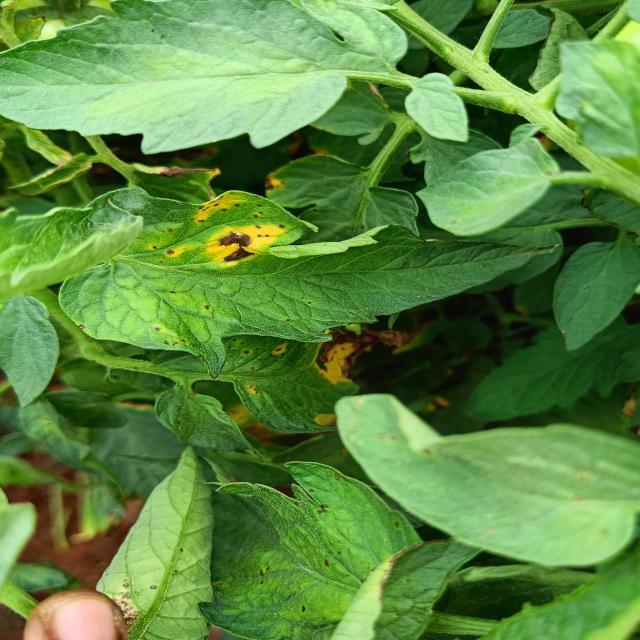Tomato mosaic virus leaf: (112, 184, 565, 383), (236, 458, 420, 640), (223, 332, 351, 434)
